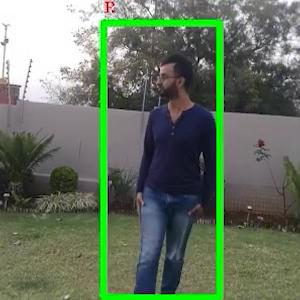follow: (116, 28, 226, 289)
